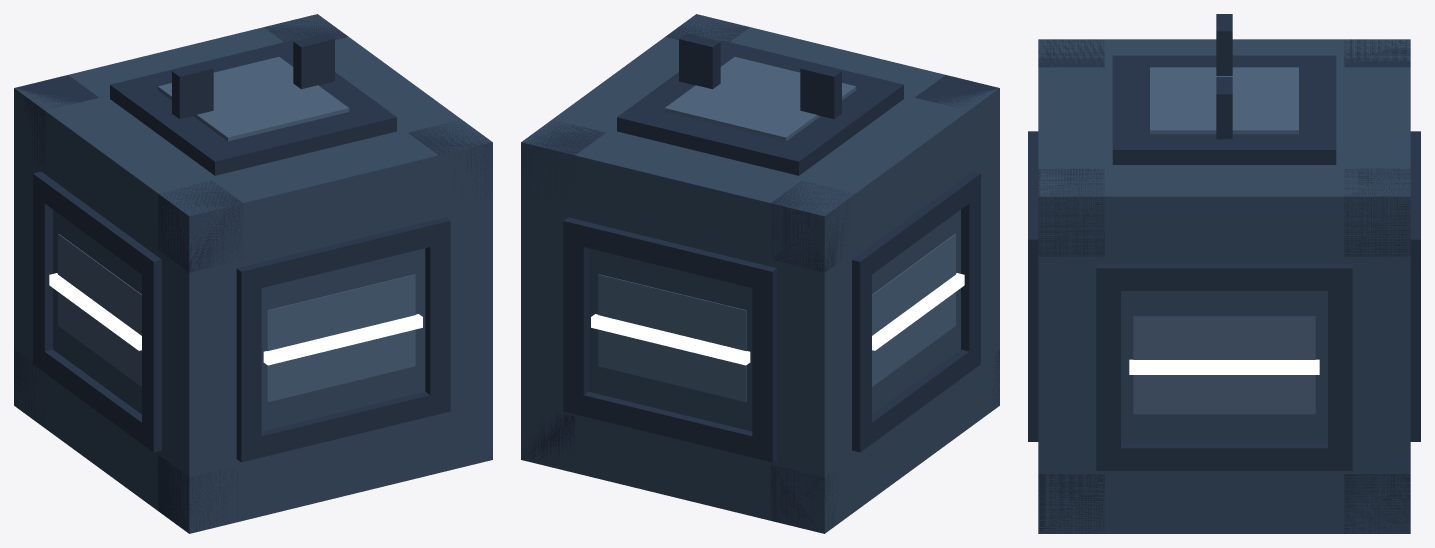
File: dive_obstacle_crate_a.glb
3 renders of one model, left to right at view 1: azimuth 30°, elevation 25°; view 2: azimuth 150°, elevation 25°; view 3: azimuth 270°, elevation 25°, orthographic. The views are drawn at different scales.
Parts seen in each view (by area): view 1: BASE, TOP_HATCH, FRONT_PANEL, TOP_INSET, LEFT_PANEL, FRONT_FRAME_H_TOP, FRONT_FRAME_H_BOTTOM, CORNER_LUF, FRONT_FRAME_V_LEFT, FRONT_FRAME_V_RIGHT, LEFT_FRAME_H_TOP, LEFT_FRAME_H_BOTTOM (+11 smaller); view 2: BASE, TOP_HATCH, BACK_PANEL, TOP_INSET, LEFT_PANEL, BACK_FRAME_H_TOP, BACK_FRAME_H_BOTTOM, CORNER_LUB, BACK_FRAME_V_LEFT, BACK_FRAME_V_RIGHT, LEFT_FRAME_H_TOP, LEFT_FRAME_H_BOTTOM (+11 smaller); view 3: BASE, RIGHT_PANEL, TOP_HATCH, TOP_INSET, RIGHT_FRAME_H_TOP, RIGHT_FRAME_H_BOTTOM, CORNER_RUF, CORNER_RUB, RIGHT_FRAME_V_FRONT, RIGHT_FRAME_V_BACK, CORNER_RDB, CORNER_RDF (+9 smaller).
Boxes of the visible parts, x1,y1,x2,y2 form: BASE: (14, 14, 492, 533); TOP_HATCH: (110, 40, 396, 175); FRONT_PANEL: (267, 274, 415, 402); TOP_INSET: (157, 57, 349, 141); LEFT_PANEL: (58, 234, 141, 386); FRONT_FRAME_H_TOP: (236, 217, 450, 292); FRONT_FRAME_H_BOTTOM: (236, 390, 450, 462); CORNER_LUF: (158, 180, 243, 272); FRONT_FRAME_V_LEFT: (236, 278, 261, 451); FRONT_FRAME_V_RIGHT: (425, 232, 450, 394); LEFT_FRAME_H_TOP: (33, 171, 161, 282); LEFT_FRAME_H_BOTTOM: (33, 343, 161, 452); BASE: (521, 14, 999, 533); TOP_HATCH: (617, 40, 903, 175); BACK_PANEL: (598, 274, 746, 402); TOP_INSET: (664, 57, 856, 141); LEFT_PANEL: (872, 234, 955, 386); BACK_FRAME_H_TOP: (563, 217, 777, 292); BACK_FRAME_H_BOTTOM: (563, 390, 777, 462); CORNER_LUB: (770, 180, 854, 272); BACK_FRAME_V_LEFT: (752, 279, 777, 451); BACK_FRAME_V_RIGHT: (563, 232, 588, 404); LEFT_FRAME_H_TOP: (852, 171, 980, 282); LEFT_FRAME_H_BOTTOM: (852, 343, 980, 452); BASE: (1038, 39, 1410, 533); RIGHT_PANEL: (1133, 316, 1315, 414); TOP_HATCH: (1112, 55, 1336, 164); TOP_INSET: (1150, 67, 1298, 134); RIGHT_FRAME_H_TOP: (1096, 264, 1352, 290); RIGHT_FRAME_H_BOTTOM: (1096, 444, 1352, 470); CORNER_RUF: (1038, 168, 1104, 256); CORNER_RUB: (1344, 168, 1410, 256); RIGHT_FRAME_V_FRONT: (1096, 280, 1120, 459); RIGHT_FRAME_V_BACK: (1328, 281, 1352, 459); CORNER_RDB: (1344, 474, 1410, 533); CORNER_RDF: (1038, 474, 1104, 533).
Bounding box in the file's own units: 95 × 107 × 95.
